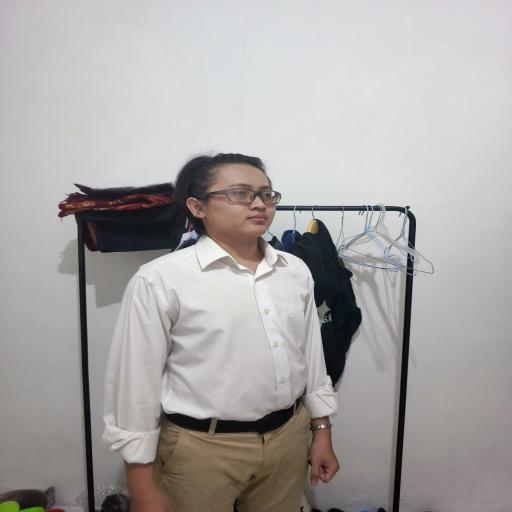celana_salah: (157, 424, 316, 512)
kemeja_benar: (108, 244, 333, 407)
sabuk_ada: (161, 404, 311, 432)
